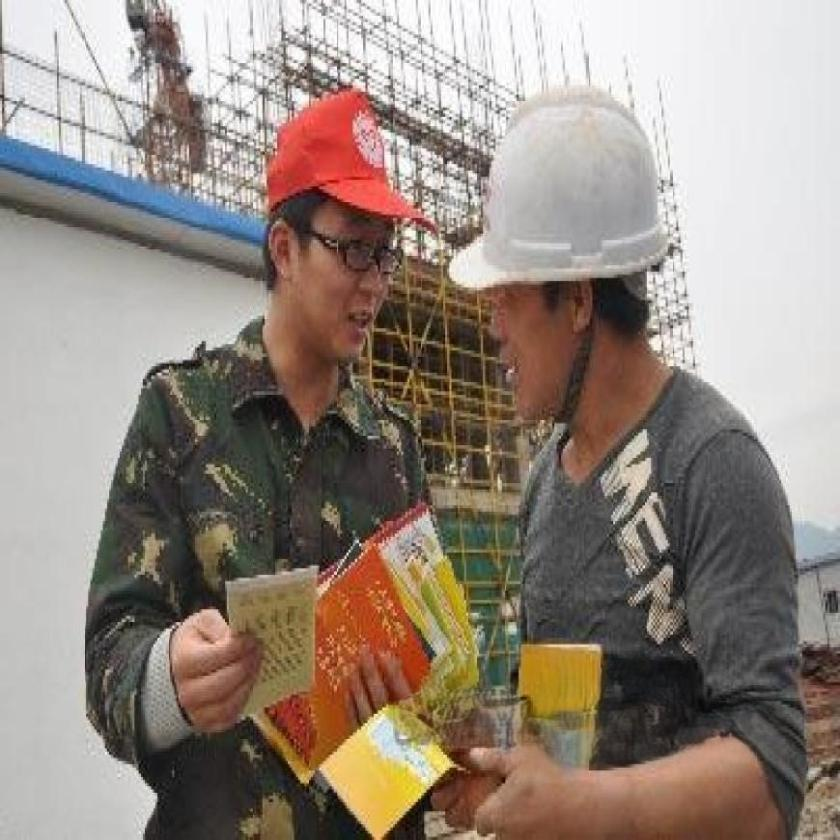Con_casco: (444, 84, 689, 428)
